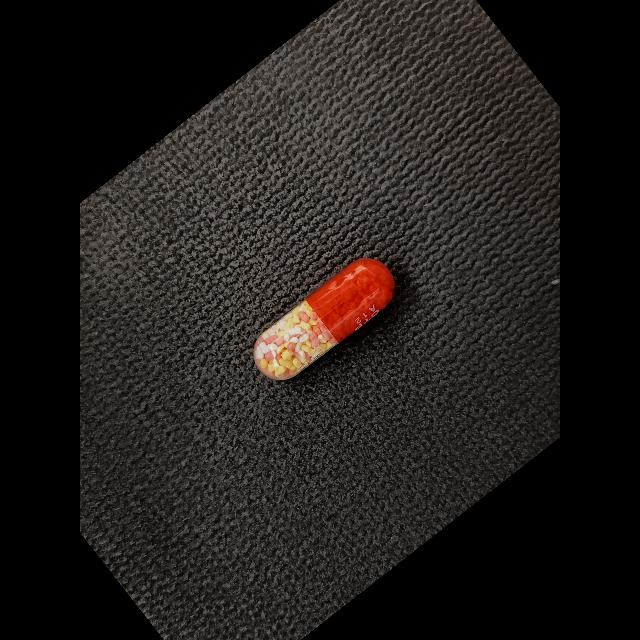Intact Capsule: (253, 258, 395, 380)
